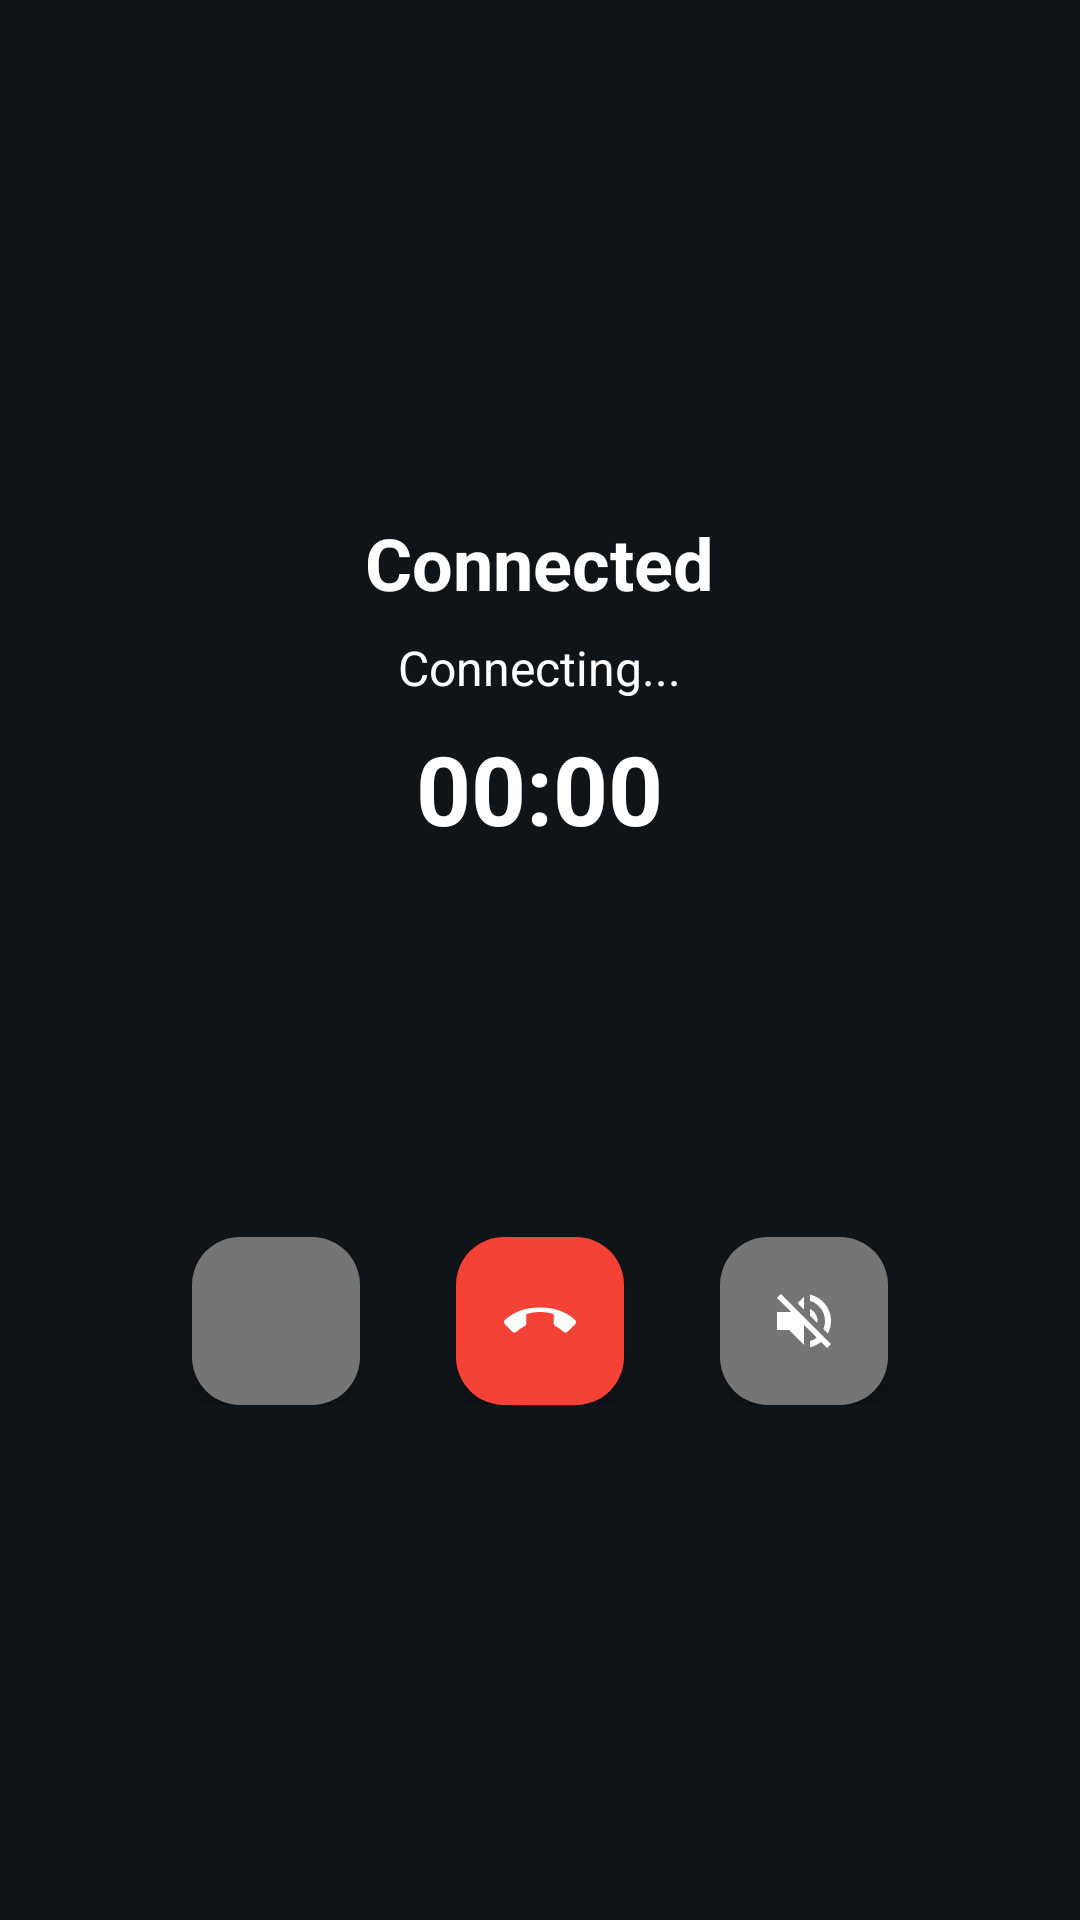

Locate icon controls on the screen. Image size 1080px×1920px, boxes as (x1, y1, x2, y2).
call end: (456, 1237, 624, 1405)
speaker off: (720, 1237, 888, 1405)
